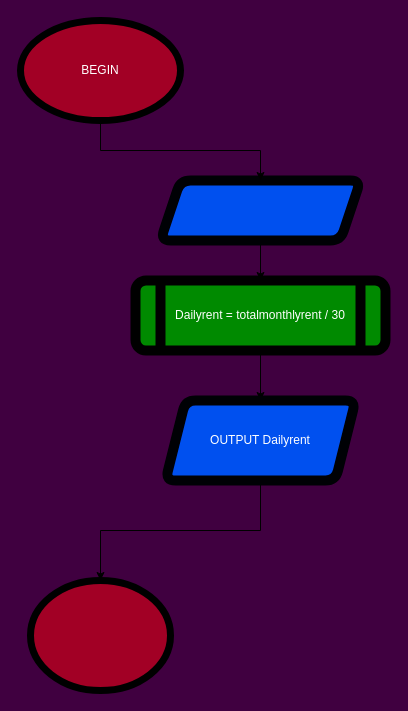
Some shapes in this 408 by 711 pixel diagram are drawn without their labels. Each missing label, with the centre of its shape:
"END" goes at (100,635).
"INPUT totalmonthlyrent" goes at (260,210).
